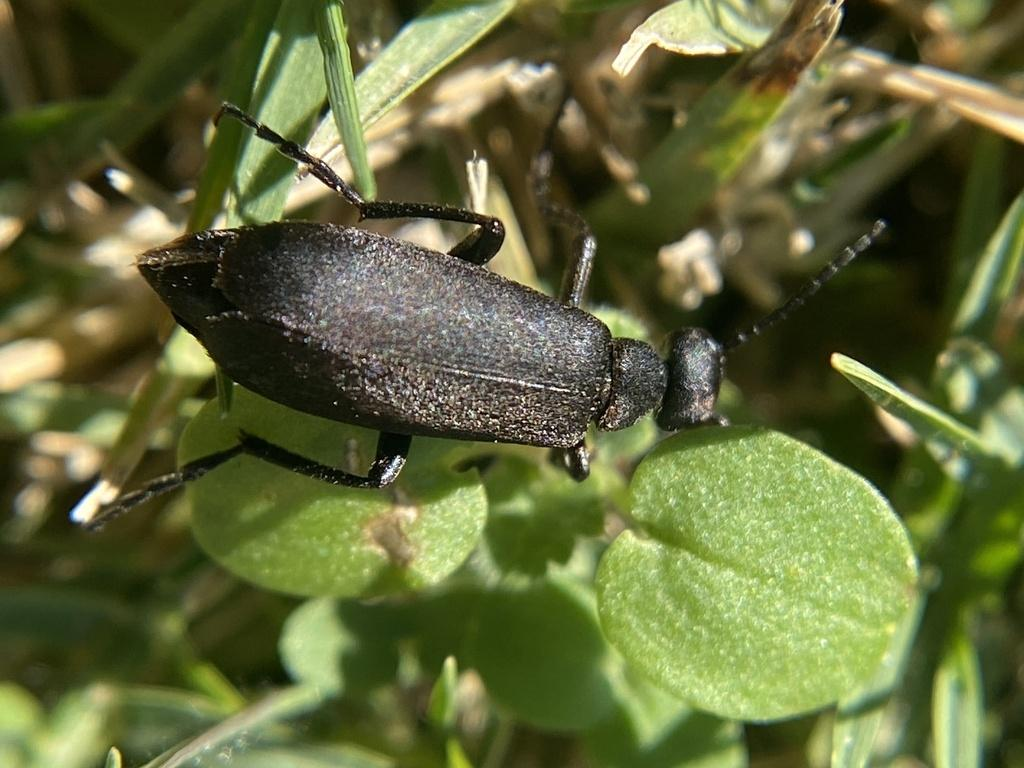blister_beetle: (49, 26, 897, 664)
